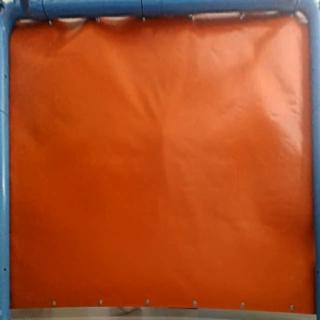Hit-hRxx: (156, 126, 172, 140)
